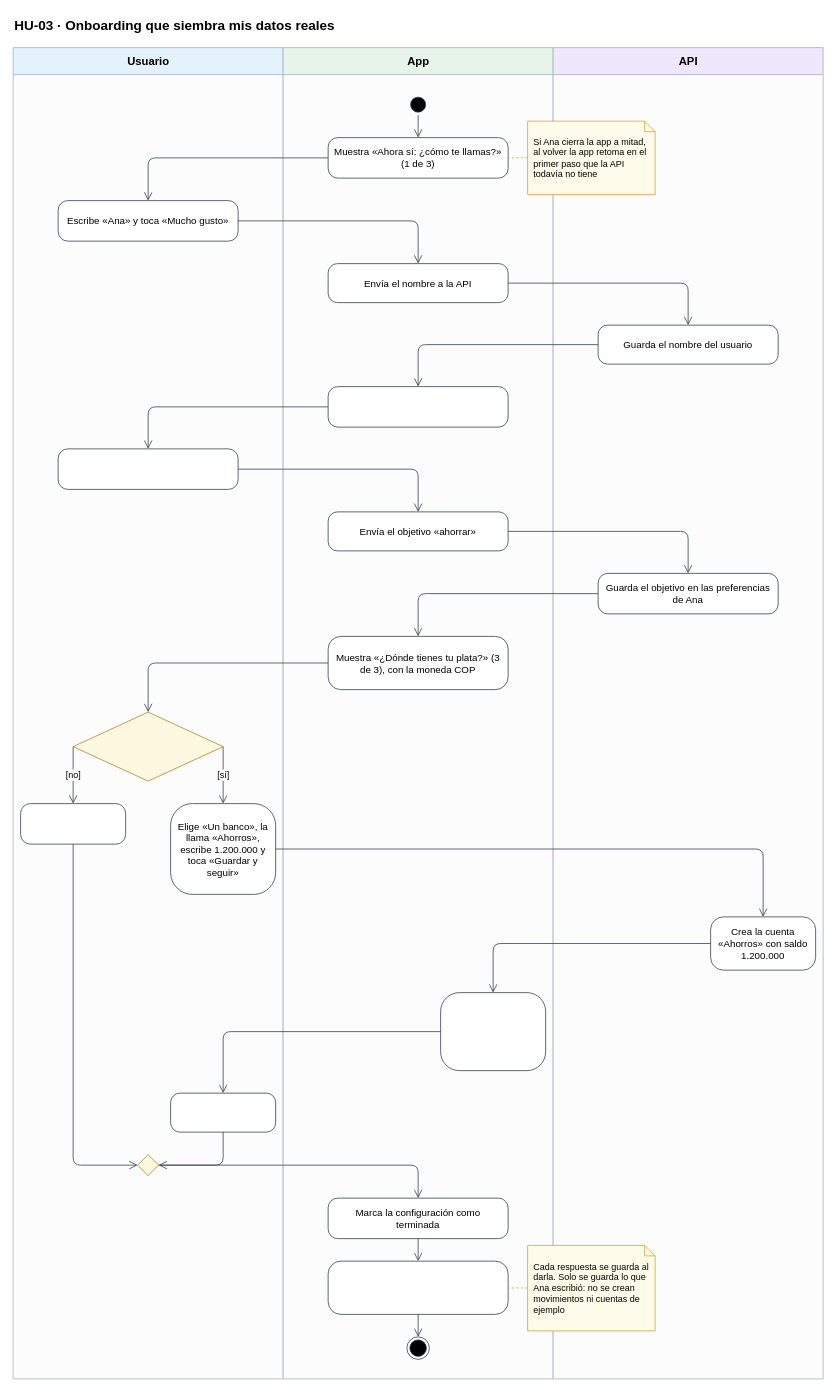
The diagram is 836 pixels wide and 1392 high, and some of its shapes have lost their labels. The shapes that lost their labels are listed below. From the top down, each one's centre as x and y in pixels, then its label:
At (x=417, y=406): "Muestra «Ana, ¿qué te trae por acá?» (2 de 3)".
At (x=147, y=468): "Elige «Quiero ahorrar y nunca puedo» y toca «Seguir»".
At (x=147, y=746): "¿Registra ya su cuenta principal?".
At (x=73, y=823): "Toca «Lo hago después»".
At (x=493, y=1031): "Muestra la demostración «Cuéntame algo que hayas gastado hoy.»".
At (x=223, y=1112): "Toca «Después»".
At (x=417, y=1287): "Abre «Inicio»: «Cuéntame tu primer gasto» y $1.200.000 en sus cuentas".
